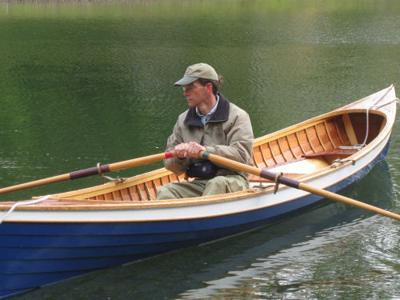person: (153, 62, 255, 202)
